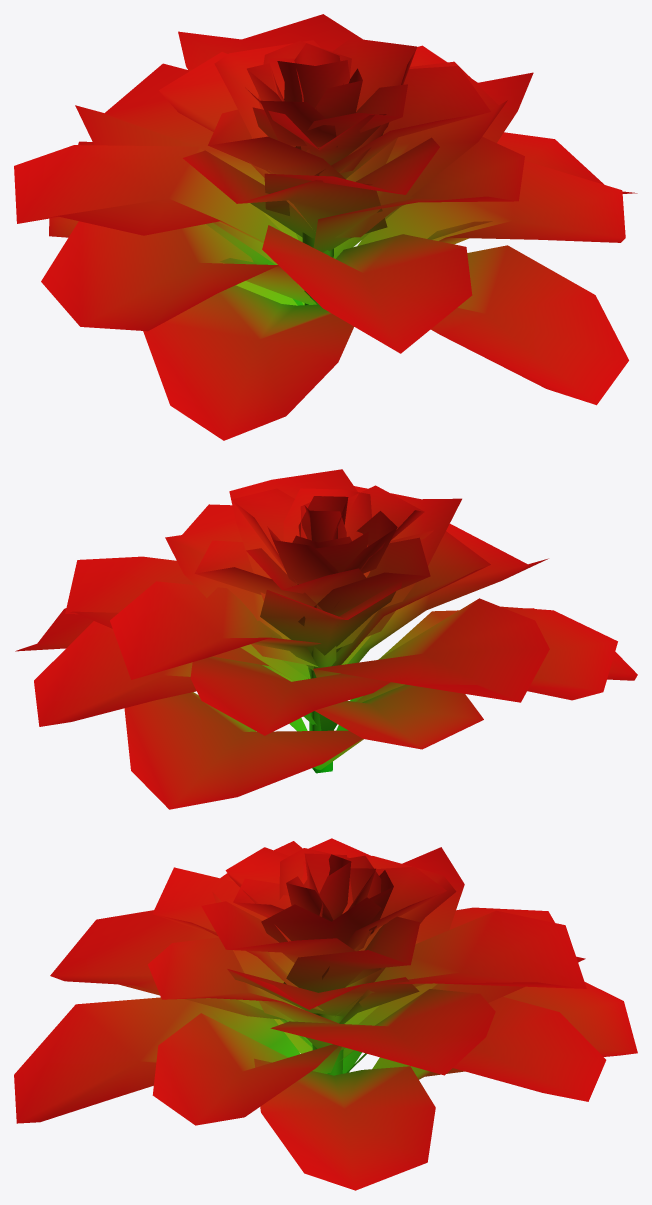
Rendered from Purple Ornamental Kale_LOD4_Var4_ugdieawja.fbx.
3 views of the same model, one above another, from view 1: azimuth 30°, elevation 25°; view 2: azimuth 150°, elevation 25°; view 3: azimuth 270°, elevation 25° (orthographic). The views are drawn at different scales.
Visible parts, largest first — view 1: _7cb1_Var4_LOD4; view 2: _7cb1_Var4_LOD4; view 3: _7cb1_Var4_LOD4.
Boxes of the visible parts, <box> form: _7cb1_Var4_LOD4: <box>14,14,637,440</box>; _7cb1_Var4_LOD4: <box>15,469,637,809</box>; _7cb1_Var4_LOD4: <box>14,838,637,1190</box>.
Bounding box in the file's own units: 51.61 × 25.35 × 53.76.
